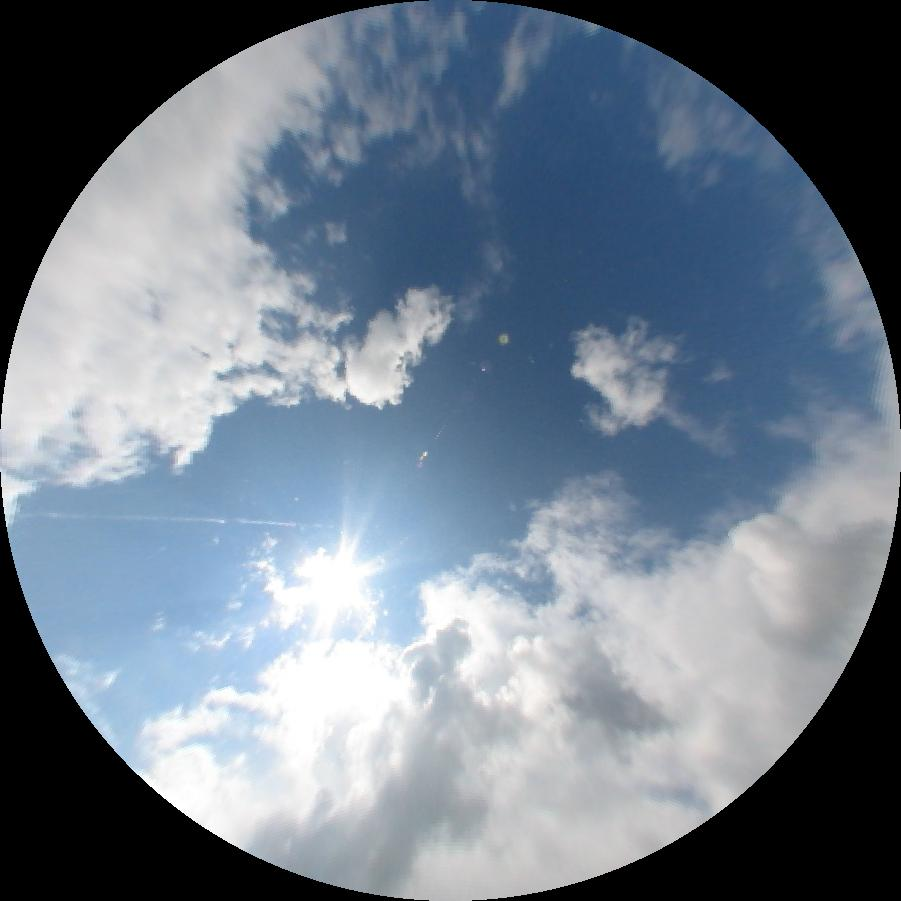parasite: (10, 513, 297, 525)
sun: (310, 554, 362, 614)
